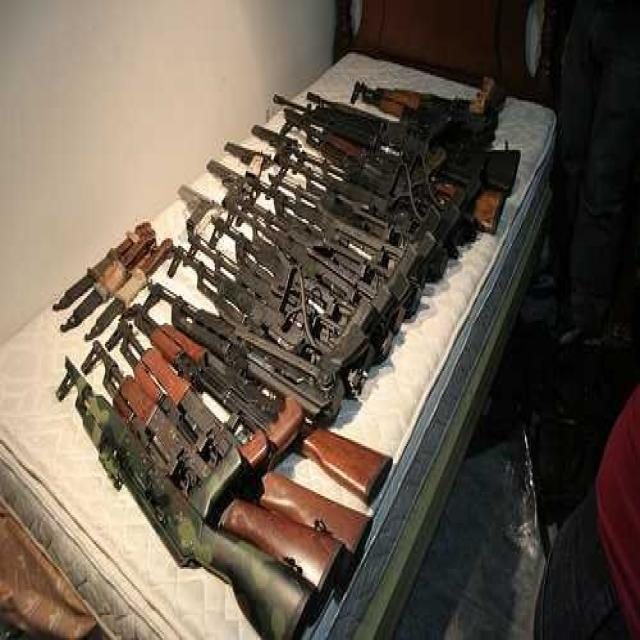weapon: (50, 342, 314, 640)
